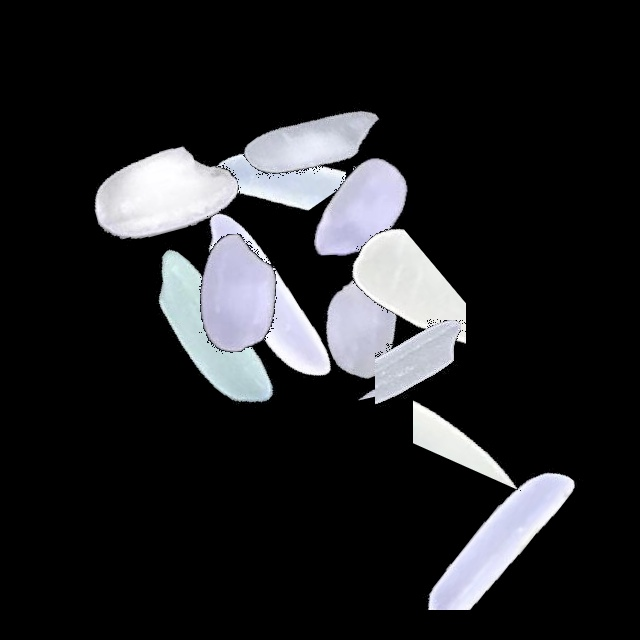Broken: (341, 438, 591, 610), (375, 239, 524, 489), (200, 21, 346, 271), (330, 204, 466, 454), (413, 281, 525, 531), (353, 71, 455, 321), (217, 315, 467, 403), (282, 312, 532, 393)
Full: (38, 65, 288, 315), (189, 13, 439, 263), (239, 197, 489, 447), (141, 170, 391, 420), (234, 83, 484, 333), (87, 209, 337, 459), (114, 166, 364, 416)
